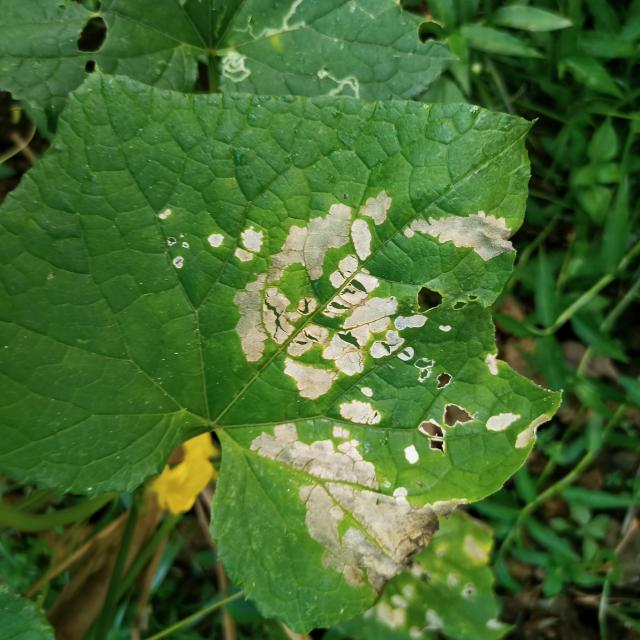disease_cucumber: (205, 184, 508, 400), (242, 398, 554, 595), (154, 203, 194, 278)
